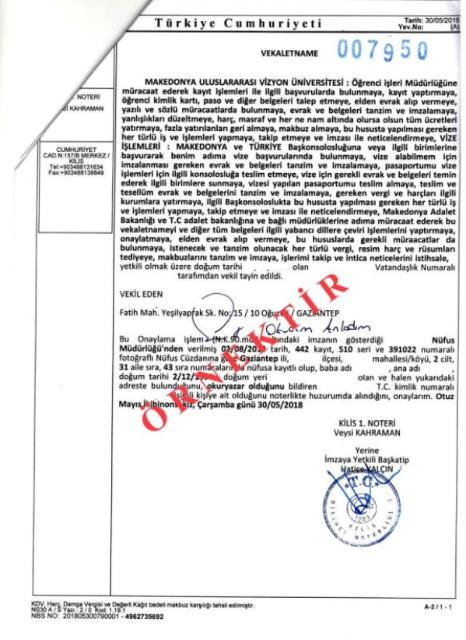stamp: (322, 472, 402, 548)
